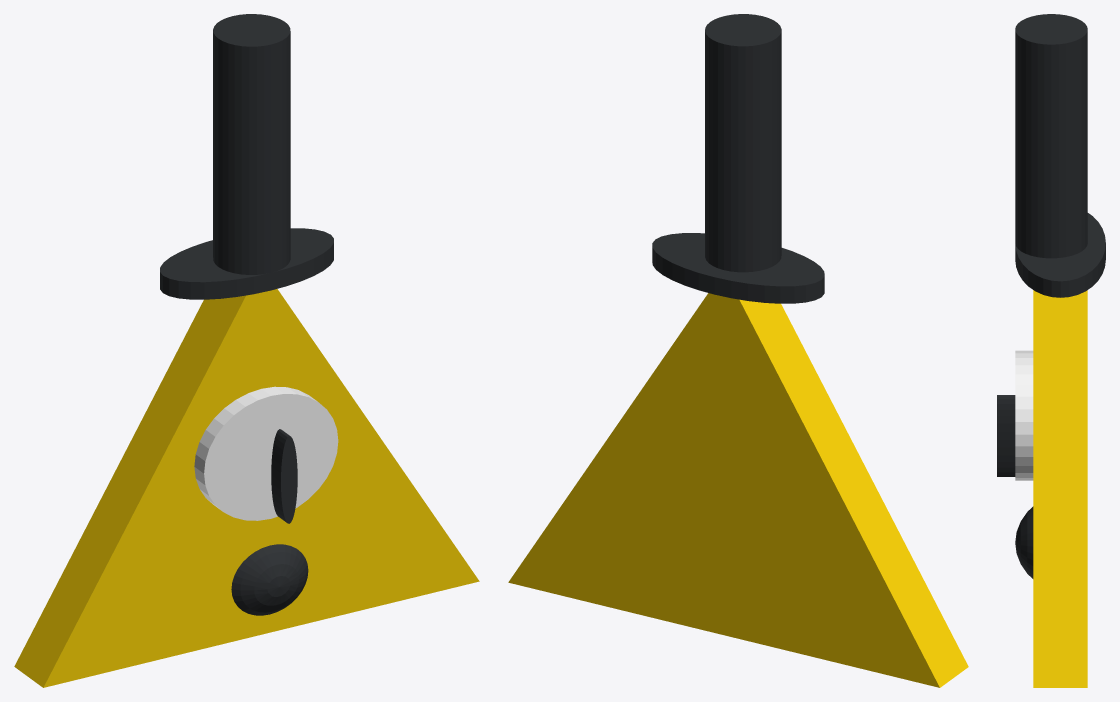
The model's file is tinker.obj.
The picture shows the model from 3 angles, left to right: view 1: azimuth 30°, elevation 25°; view 2: azimuth 150°, elevation 25°; view 3: azimuth 270°, elevation 25°; orthographic projection. The views are drawn at different scales.
Visible parts, largest first — view 1: group_0_-11008, group_0_-13947343, group_0_-328966; view 2: group_0_-11008, group_0_-13947343; view 3: group_0_-13947343, group_0_-11008, group_0_-328966.
Part boxes in pixels (x1,y1,x2,y2): group_0_-11008: (14,289,479,687); group_0_-13947343: (160,14,333,615); group_0_-328966: (194,386,338,520); group_0_-11008: (508,293,968,687); group_0_-13947343: (652,14,824,303); group_0_-13947343: (997,14,1105,578); group_0_-11008: (1033,290,1087,687); group_0_-328966: (1015,350,1033,480).
Size of the model in its own units: 26 by 34 by 6.
